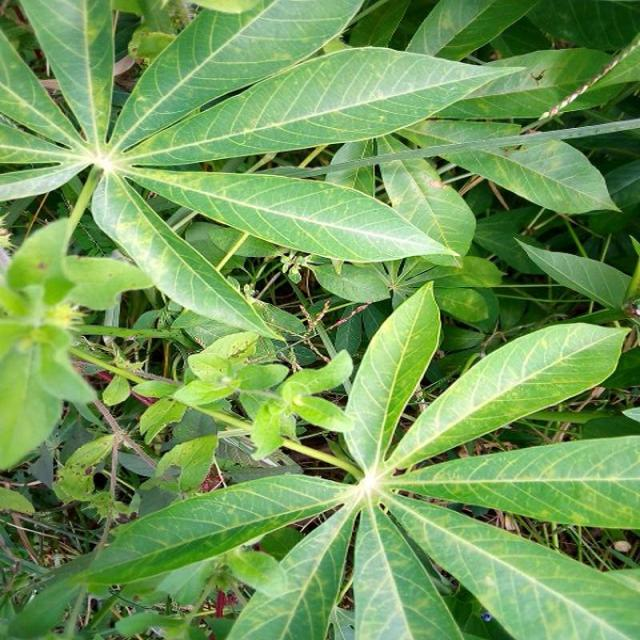cassava leaf: (14, 280, 640, 637)
